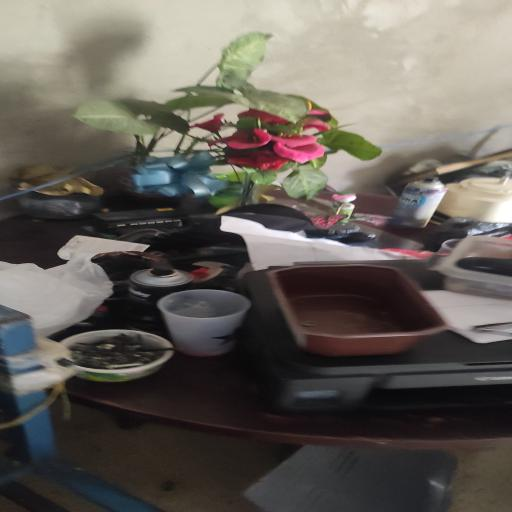ControlPlay4: (456, 257, 512, 277)
